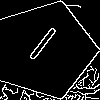I: (20, 25, 60, 70)
